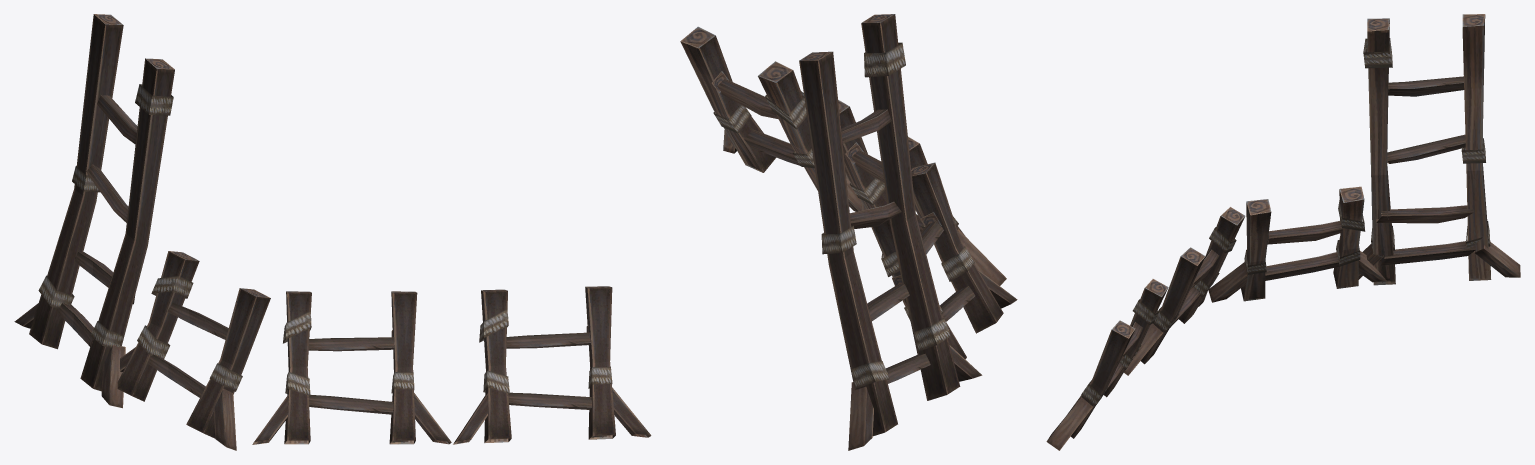
Rendered from object_mine_reinforcements01.fbx.
The picture shows the model from 3 angles, left to right: view 1: azimuth 30°, elevation 25°; view 2: azimuth 150°, elevation 25°; view 3: azimuth 270°, elevation 25°; orthographic projection. The views are drawn at different scales.
Parts seen in each view (by area): view 1: obj0.076; view 2: obj0.076; view 3: obj0.076.
Part boxes in pixels (x1,y1,x2,y2): obj0.076: (14, 14, 651, 450); obj0.076: (680, 14, 1017, 450); obj0.076: (1046, 14, 1520, 450).
Size of the model in its own units: 13.04 by 10.71 by 15.51.
